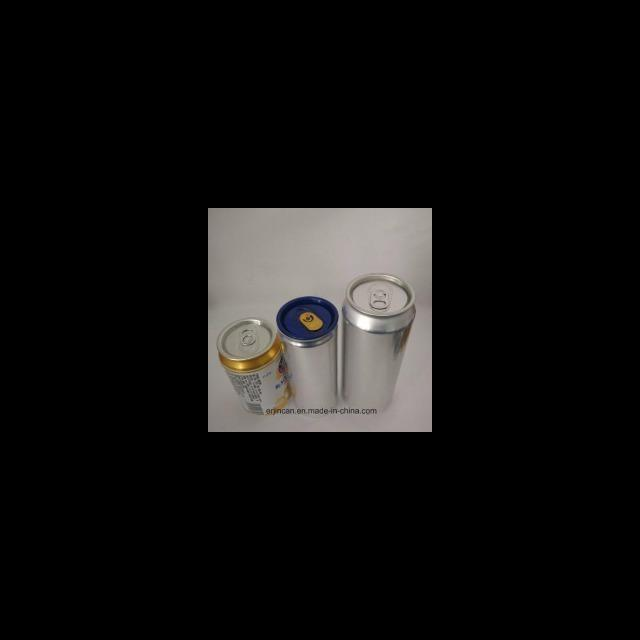metal: (339, 271, 420, 413), (275, 292, 341, 418), (217, 317, 295, 421)
